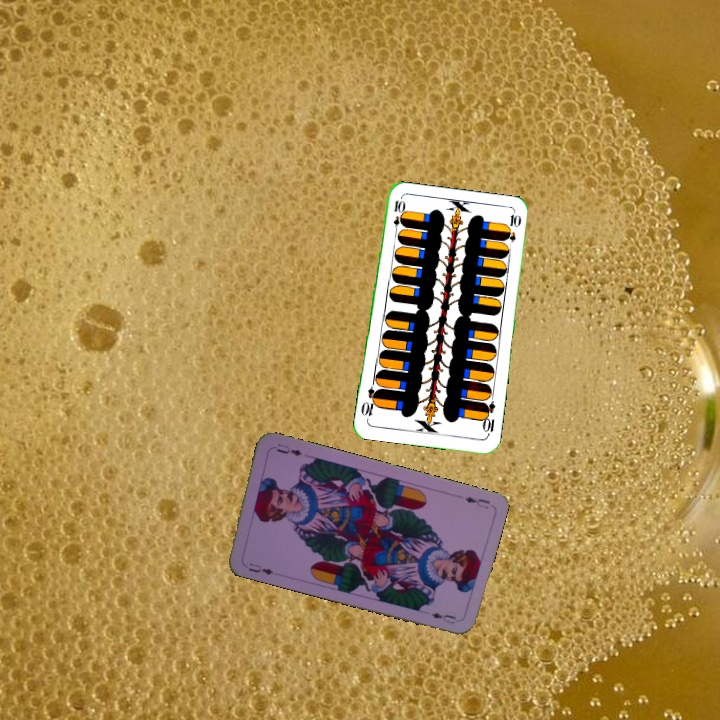E10: (478, 398, 498, 439), (389, 196, 405, 237)
EU: (461, 492, 492, 511), (244, 559, 276, 577)
